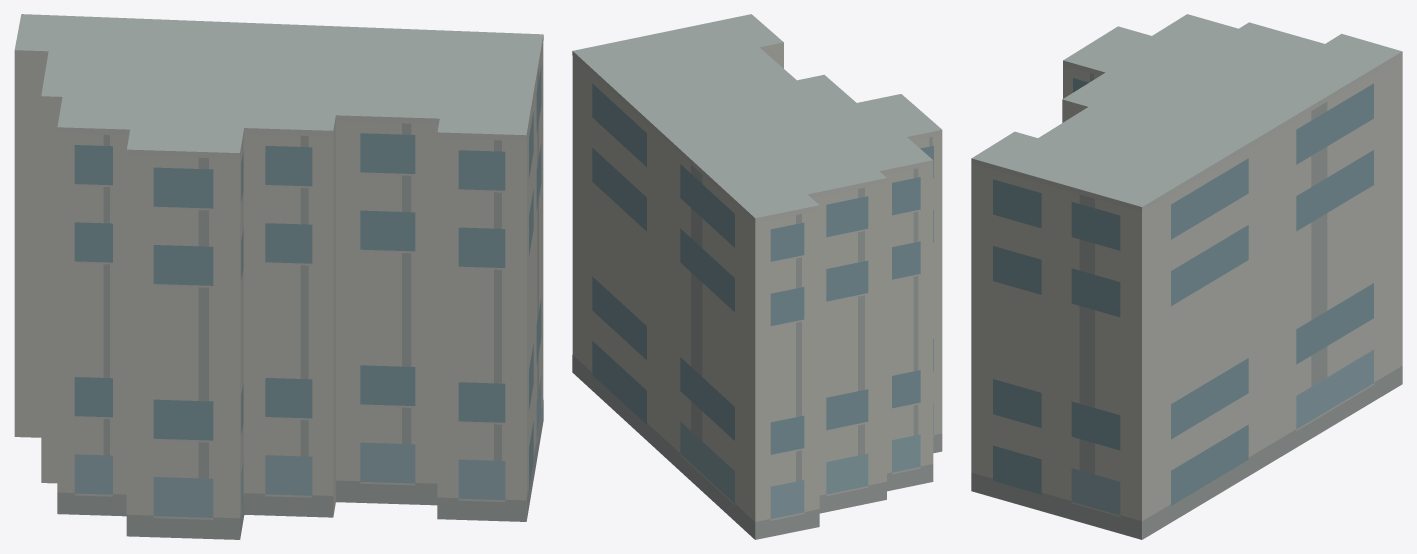
The model's file is survey-upis-32767265.glb.
3 views of the same model, side by side, from view 1: azimuth 30°, elevation 25°; view 2: azimuth 150°, elevation 25°; view 3: azimuth 270°, elevation 25° (orthographic). The views are drawn at different scales.
Parts seen in each view (by area): view 1: survey-upis-32767265.tmp; view 2: survey-upis-32767265.tmp; view 3: survey-upis-32767265.tmp.
Part boxes in pixels (x1,y1,x2,y2): survey-upis-32767265.tmp: (14,14,543,539); survey-upis-32767265.tmp: (572,14,942,539); survey-upis-32767265.tmp: (971,14,1402,539).
Bounding box in the file's own units: 19.55 × 15.71 × 18.45.
